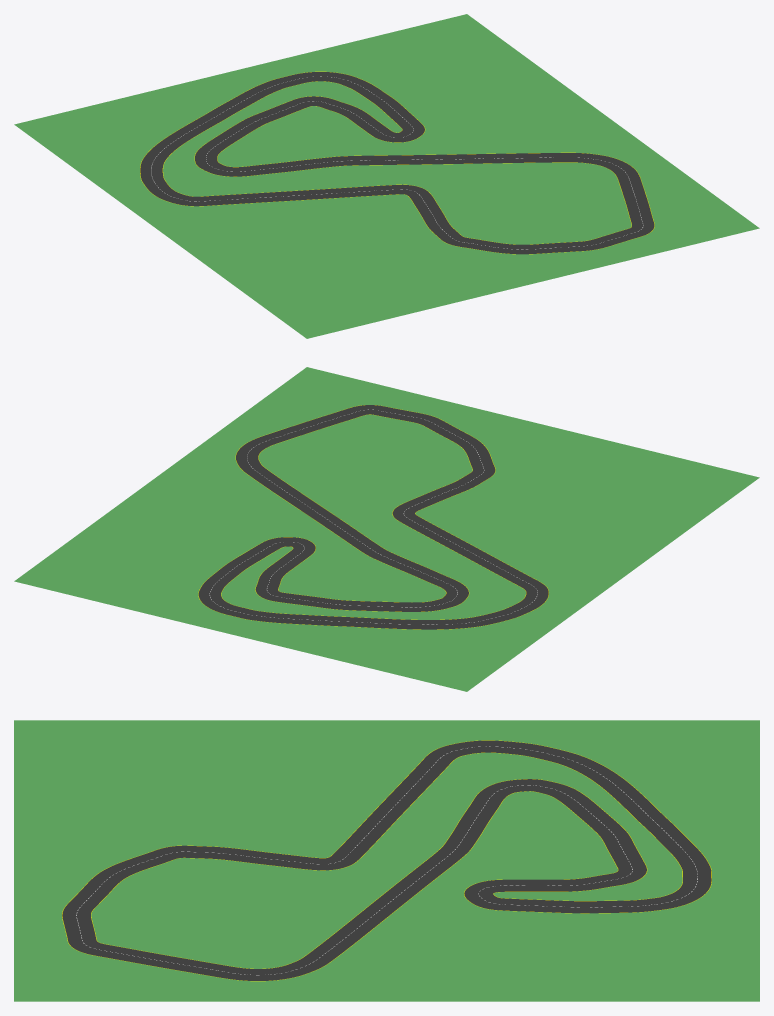
The model's file is brandshatch.dae.
3 views of the same model, one above another, from view 1: azimuth 30°, elevation 25°; view 2: azimuth 150°, elevation 25°; view 3: azimuth 270°, elevation 25° (orthographic). The views are drawn at different scales.
Parts seen in each view (by area): view 1: Ground, Track_Road, Lane_Right, Lane_Left; view 2: Ground, Track_Road, Lane_Right, Lane_Left; view 3: Ground, Track_Road, Lane_Right, Lane_Left, Lane_Center.
Part boxes in pixels (<box>): Ground: <box>14,14,759,338</box>; Track_Road: <box>140,72,654,254</box>; Lane_Right: <box>140,71,654,254</box>; Lane_Left: <box>162,81,631,244</box>; Ground: <box>14,367,759,691</box>; Track_Road: <box>198,405,548,629</box>; Lane_Right: <box>198,405,548,629</box>; Lane_Left: <box>221,414,526,619</box>; Ground: <box>14,720,759,1001</box>; Track_Road: <box>62,740,711,980</box>; Lane_Right: <box>62,740,711,981</box>; Lane_Left: <box>91,752,682,968</box>; Lane_Center: <box>76,746,697,975</box>.
Size of the model in its own units: 276 by 309 by 0.07.
